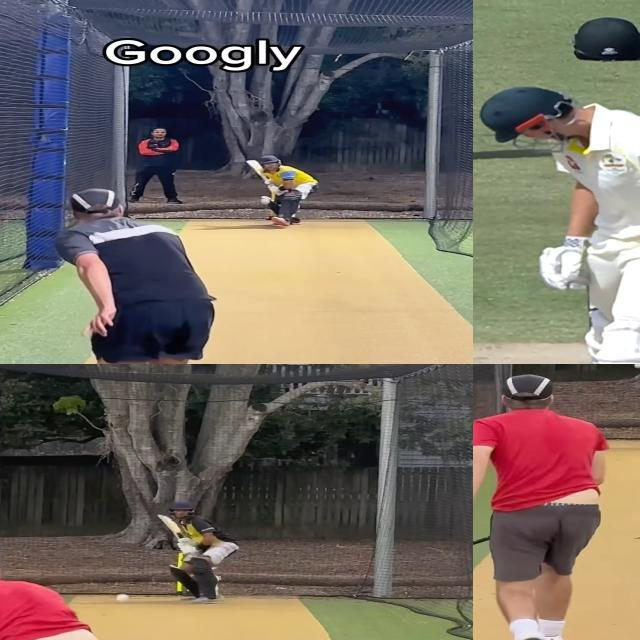Cricket ball: (115, 592, 133, 604), (259, 198, 271, 206), (631, 364, 640, 370)
